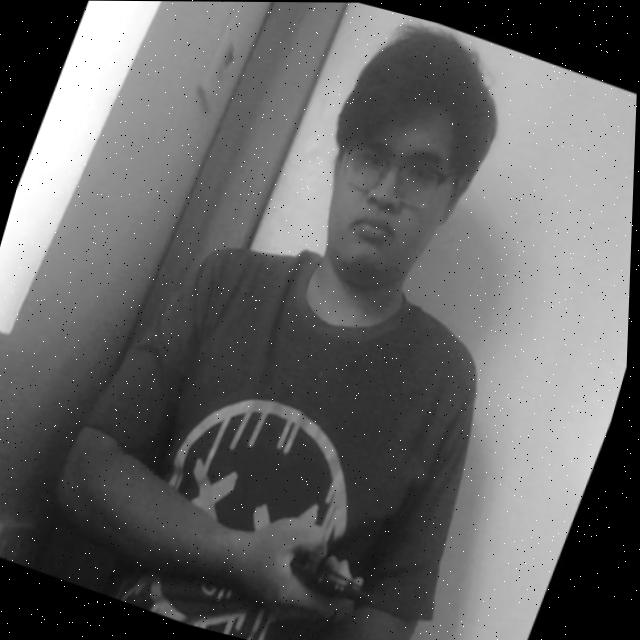phone: (269, 518, 388, 627)
